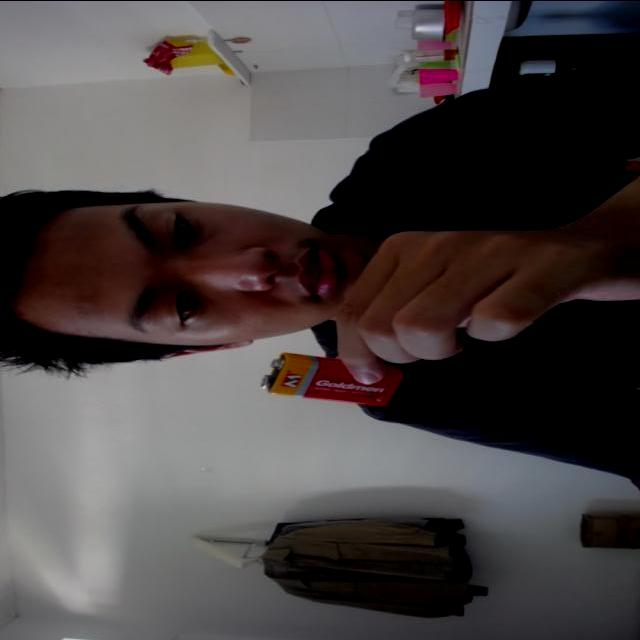9V: (242, 352, 420, 412)
